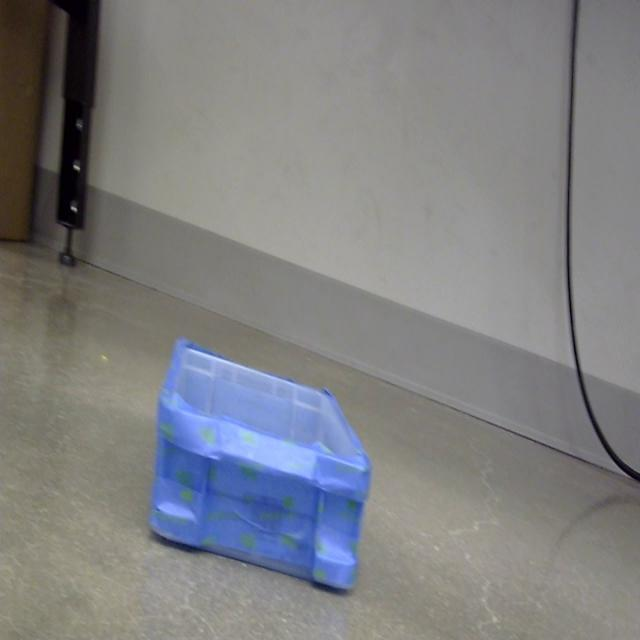bucket: (148, 339, 373, 596)
